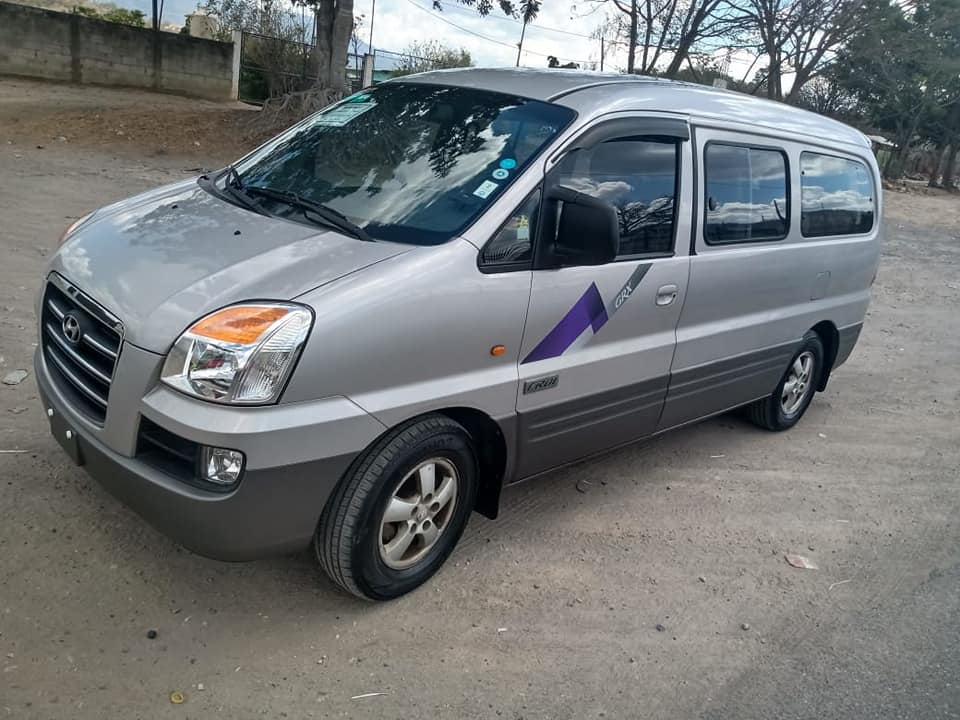bus: (34, 59, 883, 600)
